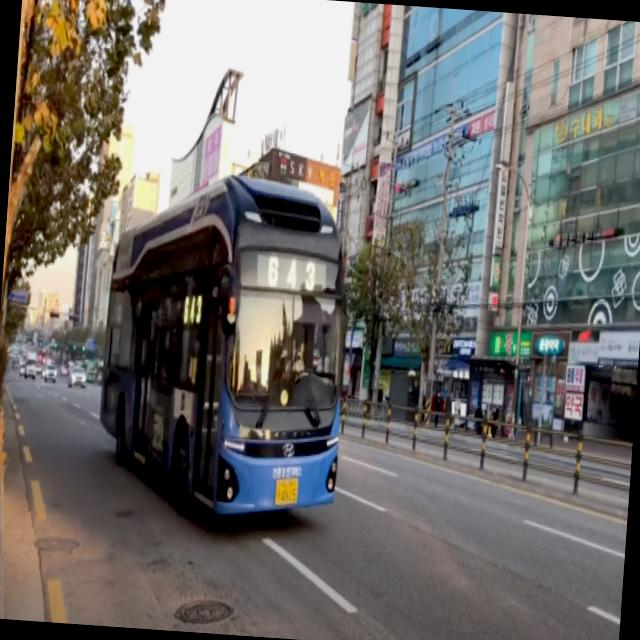bus-number: (265, 254, 317, 292)
